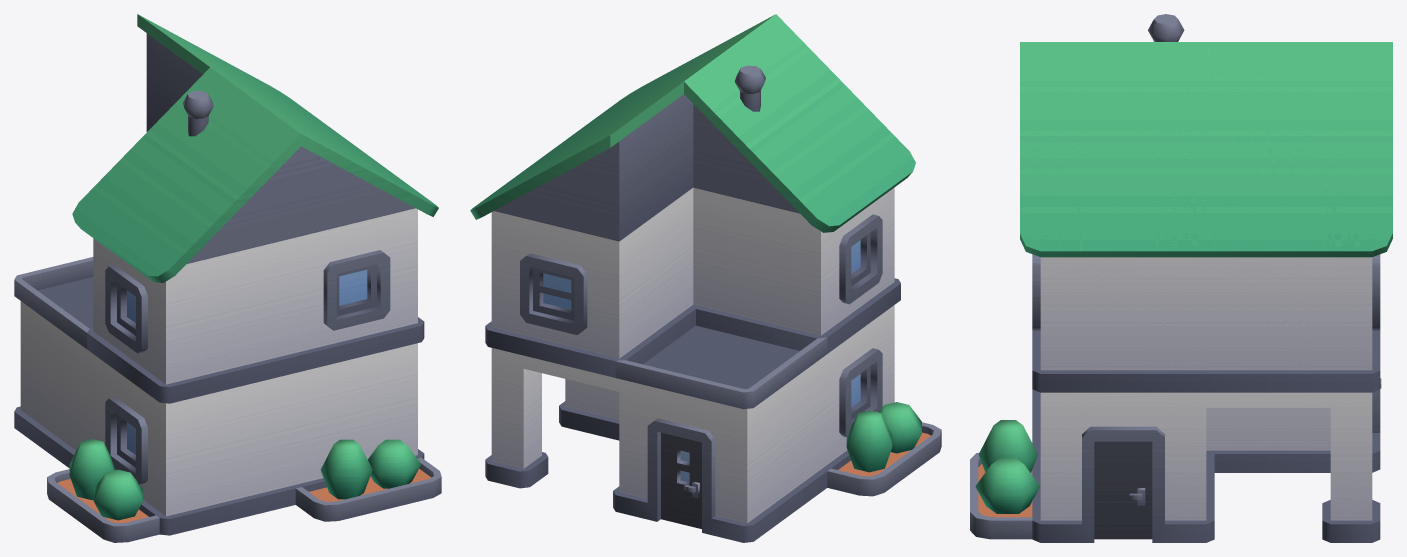
Rendered from s_building-type-r.glb.
3 views of the same model, side by side, from view 1: azimuth 30°, elevation 25°; view 2: azimuth 150°, elevation 25°; view 3: azimuth 270°, elevation 25° (orthographic). The views are drawn at different scales.
Parts seen in each view (by area): view 1: building-type-r; view 2: building-type-r; view 3: building-type-r.
Part boxes in pixels (bbox=[...]): building-type-r: bbox=[14, 14, 441, 542]; building-type-r: bbox=[470, 14, 941, 542]; building-type-r: bbox=[970, 14, 1392, 542].
Size of the model in its own units: 1.03 by 1.14 by 1.02.
Materials: 1 (1 with a texture image).
